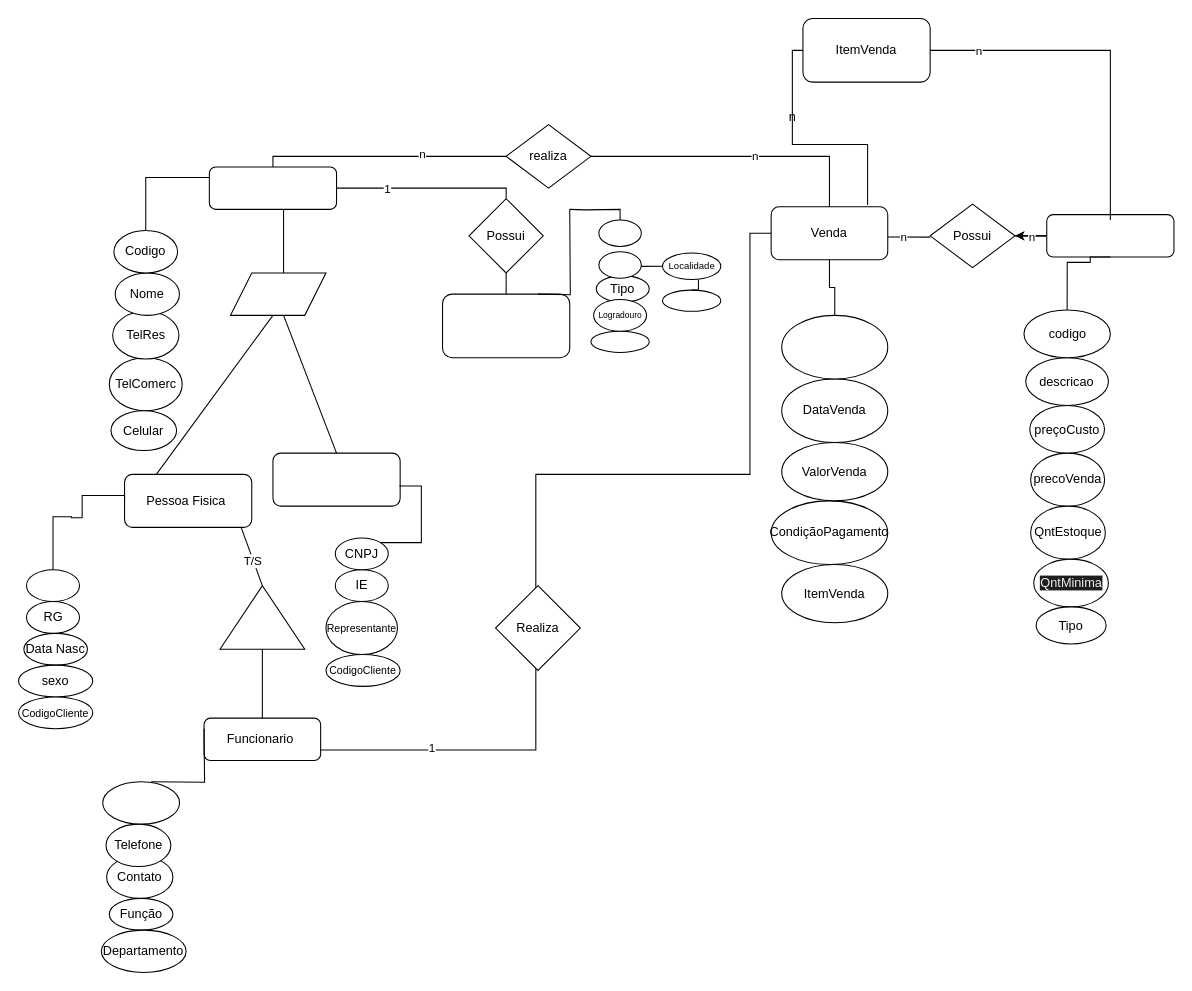
Some shapes in this 1192 by 991 pixel diagram are drawn without their labels. The shapes that lost their labels are listed below. From the top down, each one's centre as x and y in pixels, then its label:
At (x=272, y=187): "Pessoa".
At (x=619, y=232): "Id".
At (x=1110, y=235): "Produto".
At (x=619, y=264): "CEP".
At (x=277, y=293): "T/D".
At (x=691, y=300): "UF".
At (x=505, y=325): "Endereço".
At (x=619, y=341): "Bairro".
At (x=834, y=346): "NumeroVenda".
At (x=336, y=479): "Pessoa Juridica".
At (x=52, y=585): "CPF".
At (x=141, y=802): "Código".
